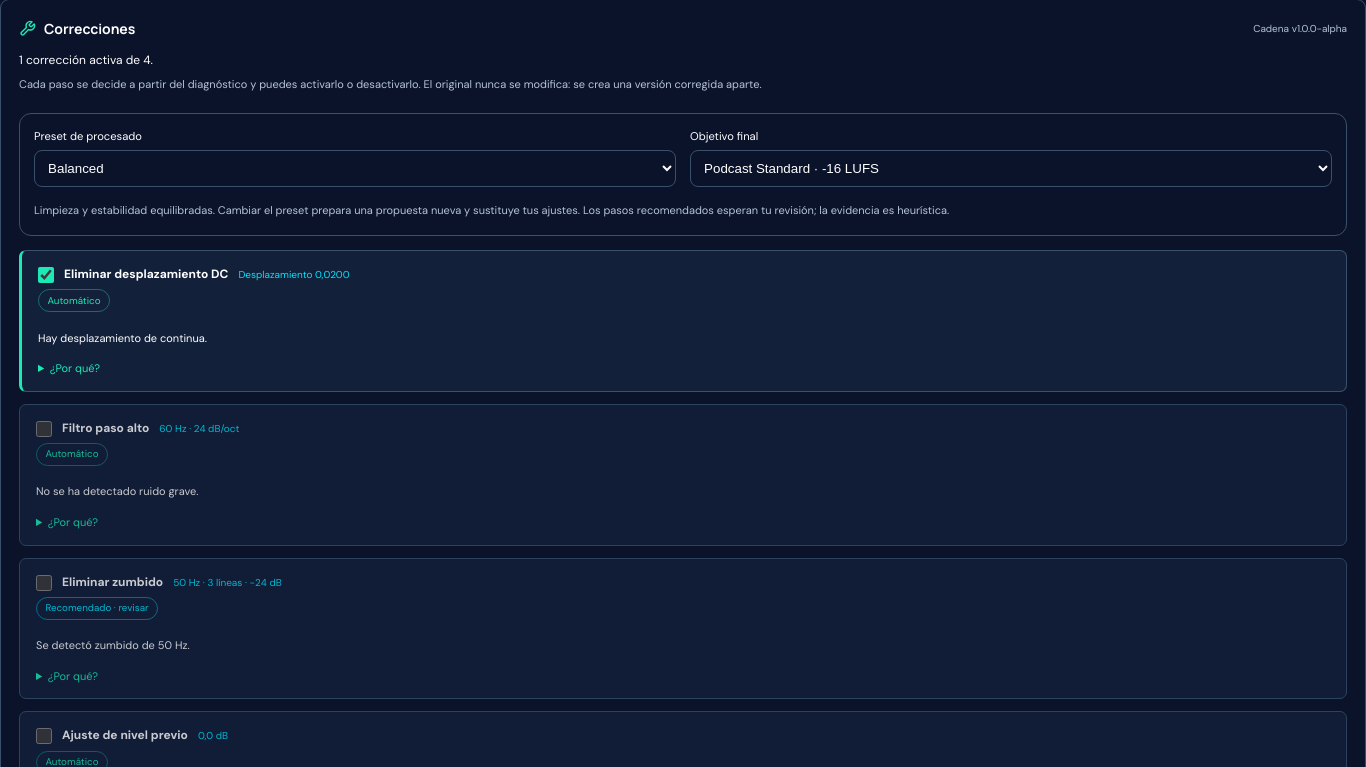
Test: one action sends the reviewed plan and displays the verified master
Click the checkbox labelled "Eliminar zumbido 50 Hz · 3 líneas · −24 dB" at (44, 583), box [36, 575, 52, 591]
(page scrolled)
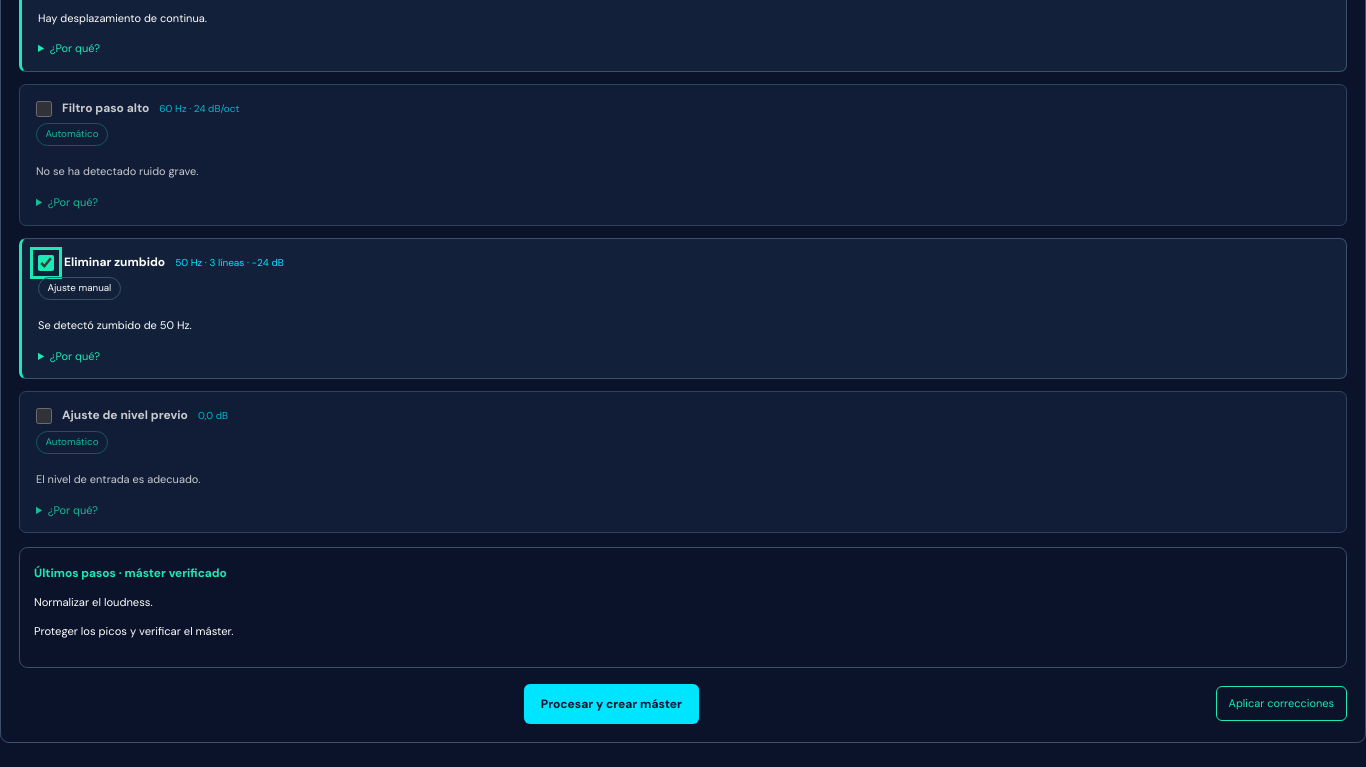
Click the button "Procesar y crear máster" at (611, 704), box [524, 684, 699, 724]
(page scrolled)
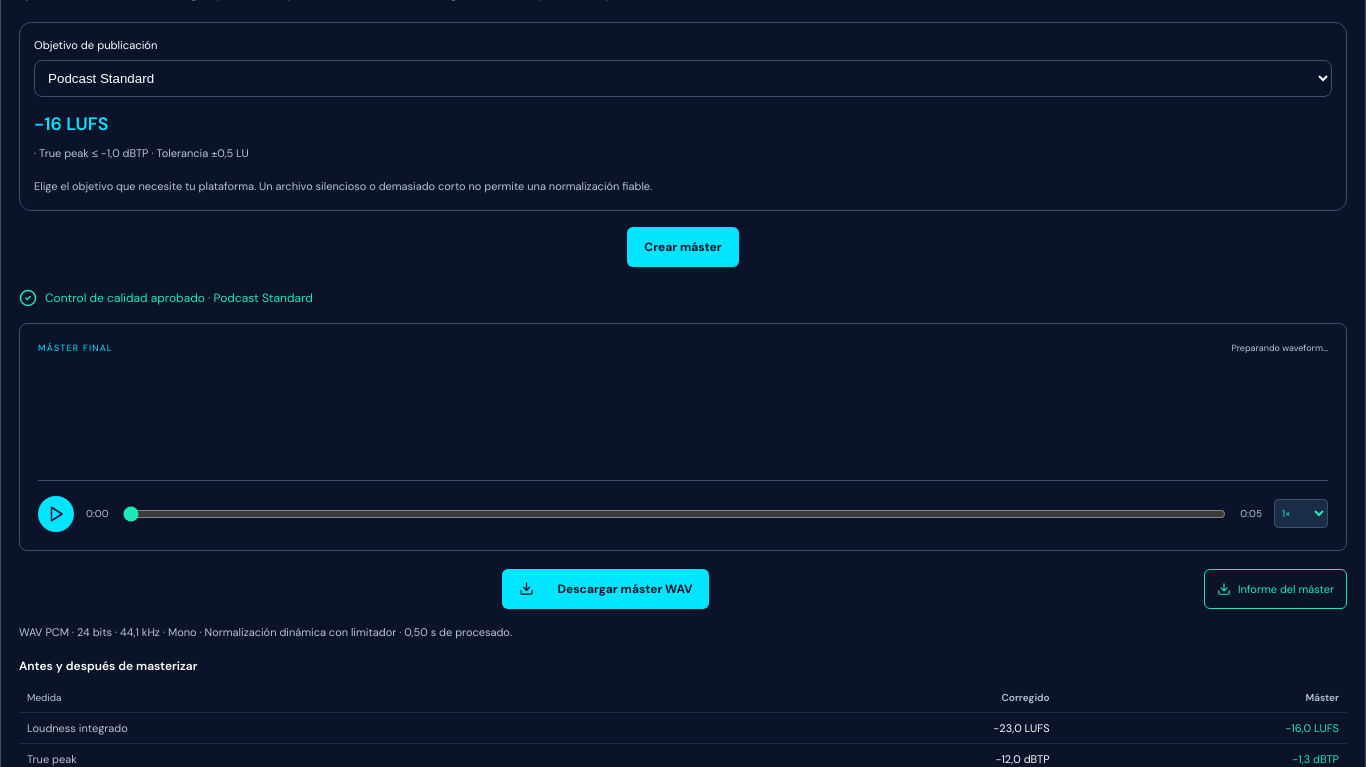
Check: the text "Control de calidad aprobado · Podcast Standard" is shown, box [19, 290, 313, 308]
Check: the button "Descargar máster WAV" is enabled, box [502, 569, 709, 609]
